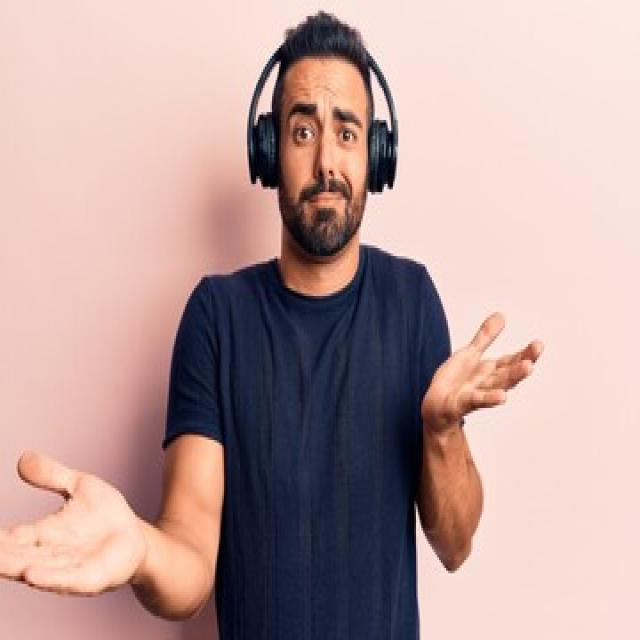Headphone: (243, 28, 400, 195)
